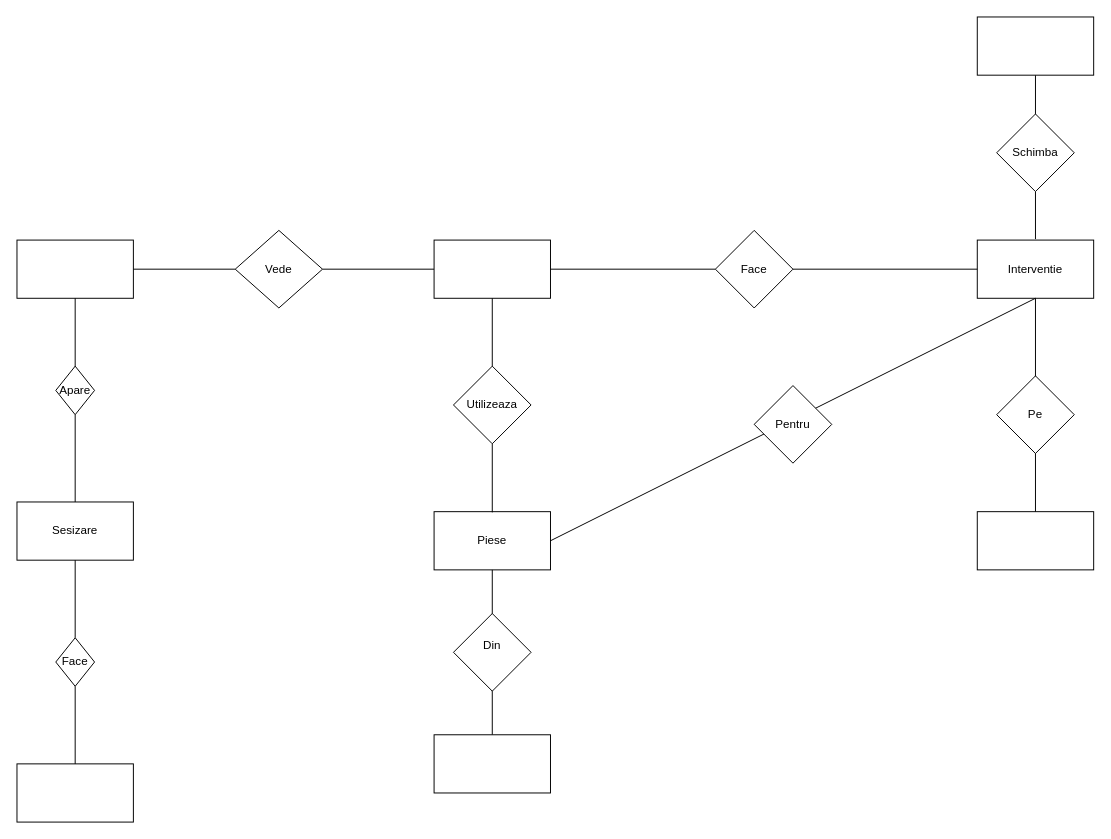
Image size: 1111x839. Some labels were removed from this diagram. The shapes that lost their labels are listed below. From the top down, each one's centre as x and y in pixels, then its label:
point (1035, 45): Starea
point (74, 268): Harta
point (491, 268): Mecanic
point (1035, 540): Echipament
point (491, 763): Inventar
point (74, 792): Operator CNC
